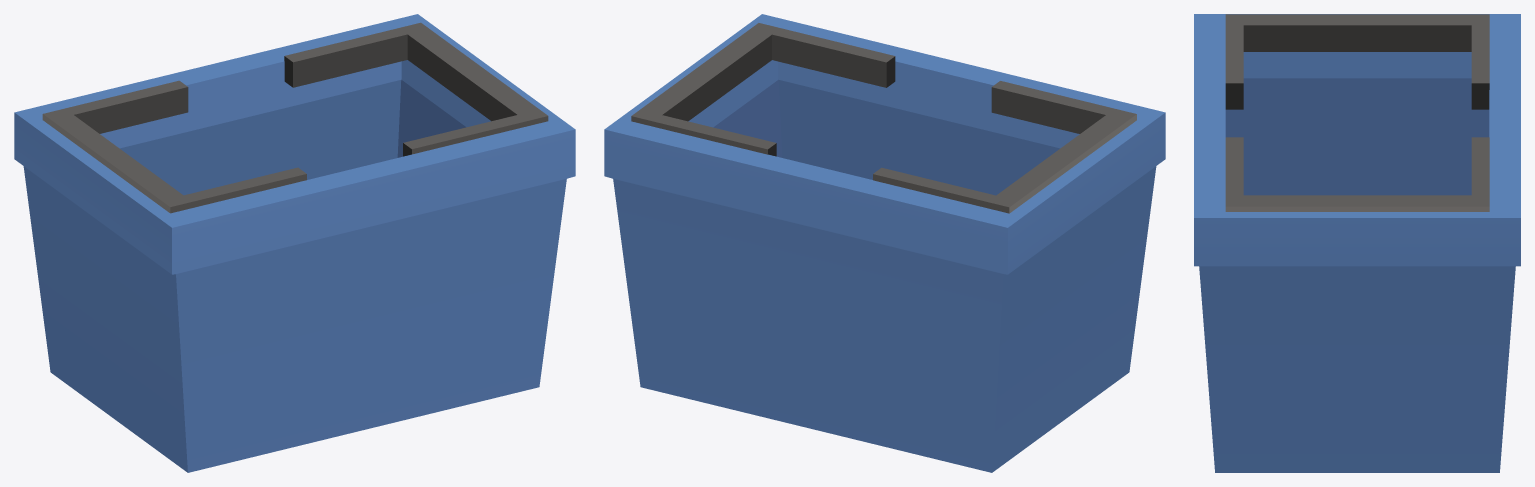
File: Basket.glb
The picture shows the model from 3 angles, left to right: view 1: azimuth 30°, elevation 25°; view 2: azimuth 150°, elevation 25°; view 3: azimuth 270°, elevation 25°; orthographic projection. The views are drawn at different scales.
Visible parts, largest first — view 1: SI_Prop_Basket_HandleDown_01; view 2: SI_Prop_Basket_HandleDown_01; view 3: SI_Prop_Basket_HandleDown_01.
Part boxes in pixels (x1,y1,x2,y2): SI_Prop_Basket_HandleDown_01: [14, 14, 575, 472]; SI_Prop_Basket_HandleDown_01: [604, 14, 1165, 472]; SI_Prop_Basket_HandleDown_01: [1194, 14, 1520, 472].
Size of the model in its own units: 0.0104 by 0.00654 by 0.00706.
Materials: 1 (1 with a texture image).
